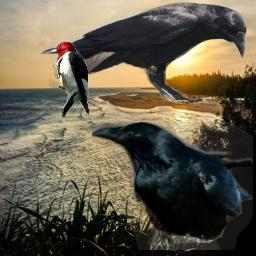Crow: (39, 1, 247, 104), (92, 122, 253, 250)
Woodpecker: (45, 41, 90, 117)
